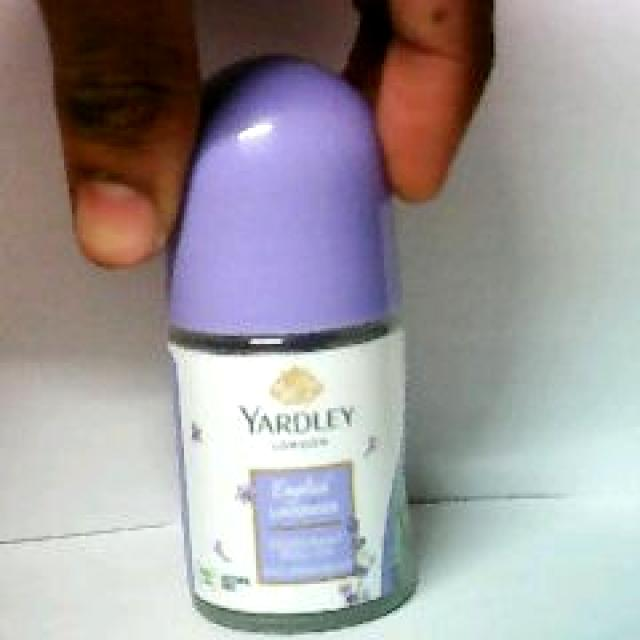yardley_rollon: (165, 56, 416, 637)
